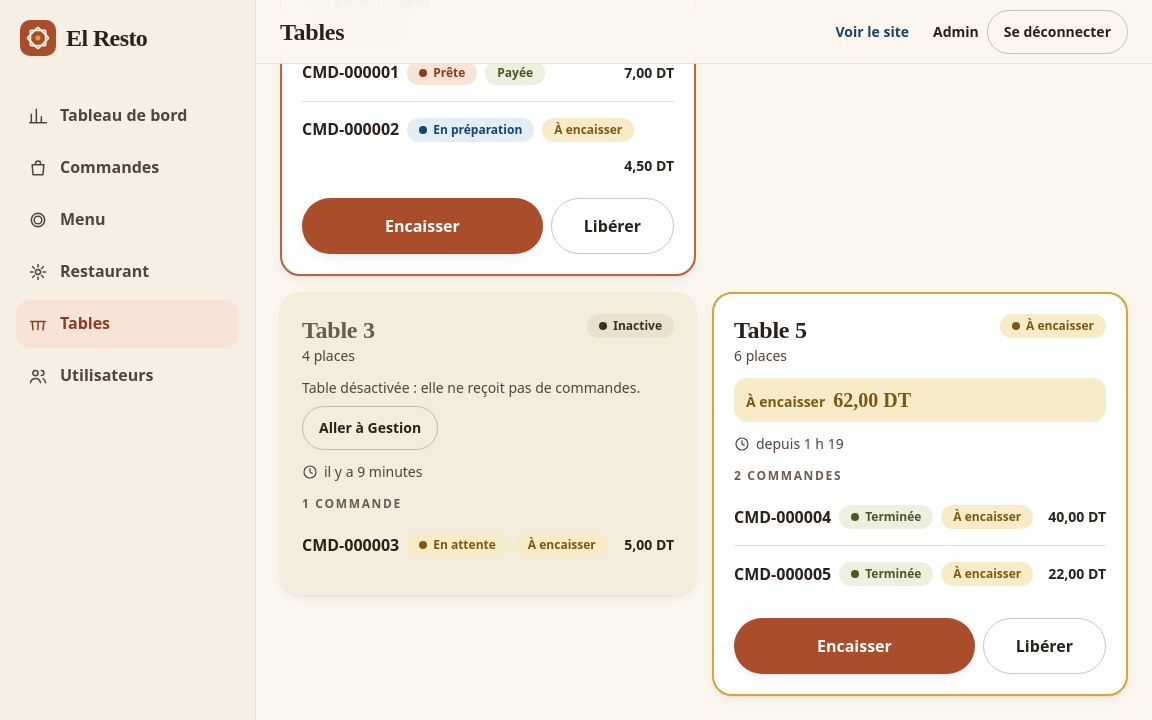
Scenario: Salle : encaisser et libérer › encaisser refusé (409) : le message du serveur reste visible dans le dialogue
(page scrolled)
Check: the heading "Table 5" is shown, box x1=734 y1=314 x2=807 y2=346
What coordinates should you click on to do the following:
click the button "Encaisser" below "Table 5"
I would click on:
 (854, 646)
Its box is x1=734 y1=618 x2=975 y2=674.
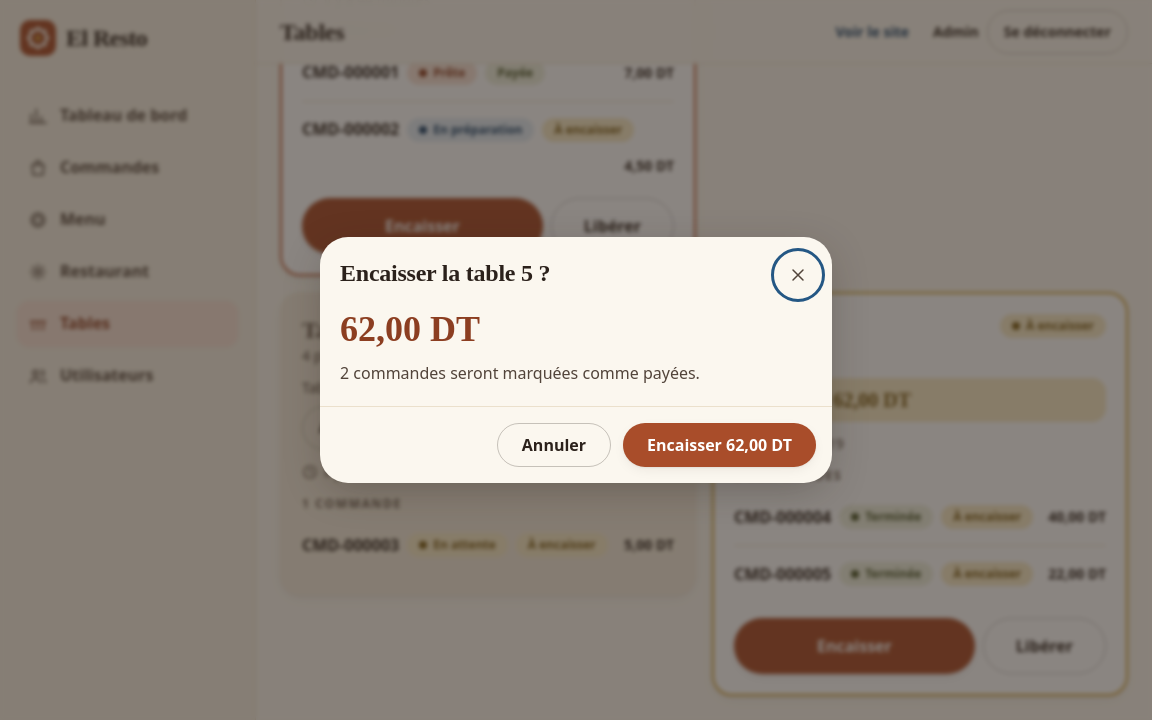
What coordinates should you click on to do the following:
click the button "Encaisser 62,00 DT"
I would click on:
 (720, 445)
Its box is x1=623 y1=423 x2=816 y2=467.
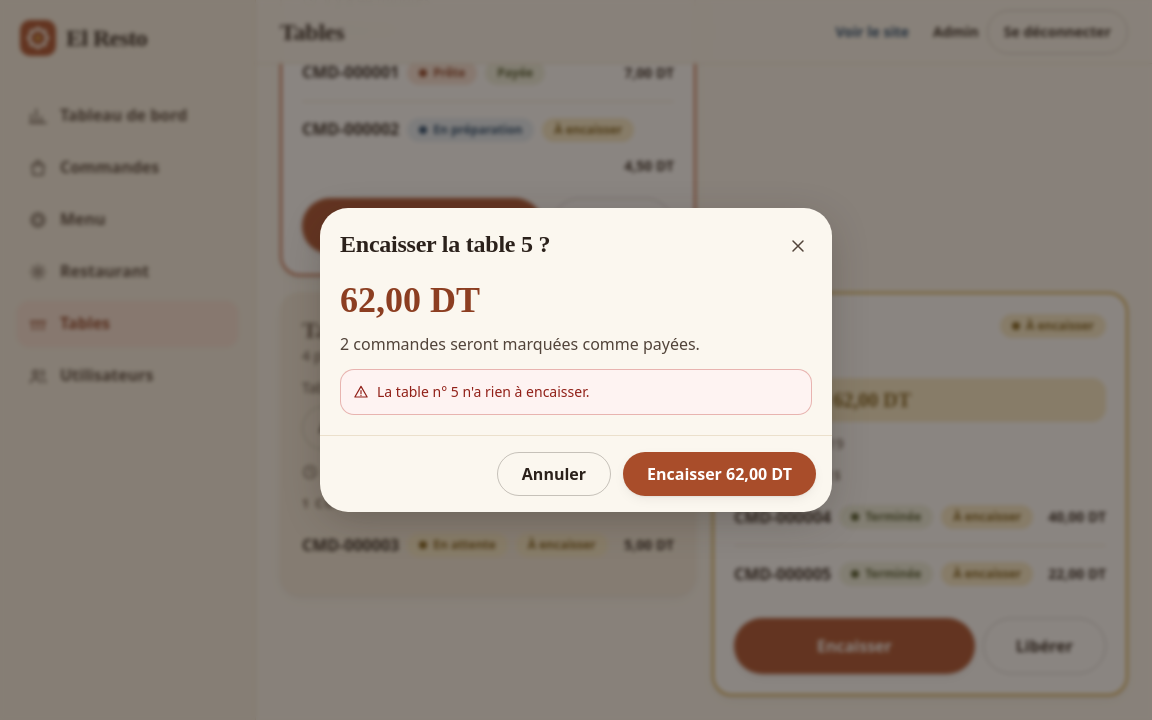
Check: the text "La table n° 5 n'a rien à encaisser." is shown, box x1=340 y1=369 x2=812 y2=415
